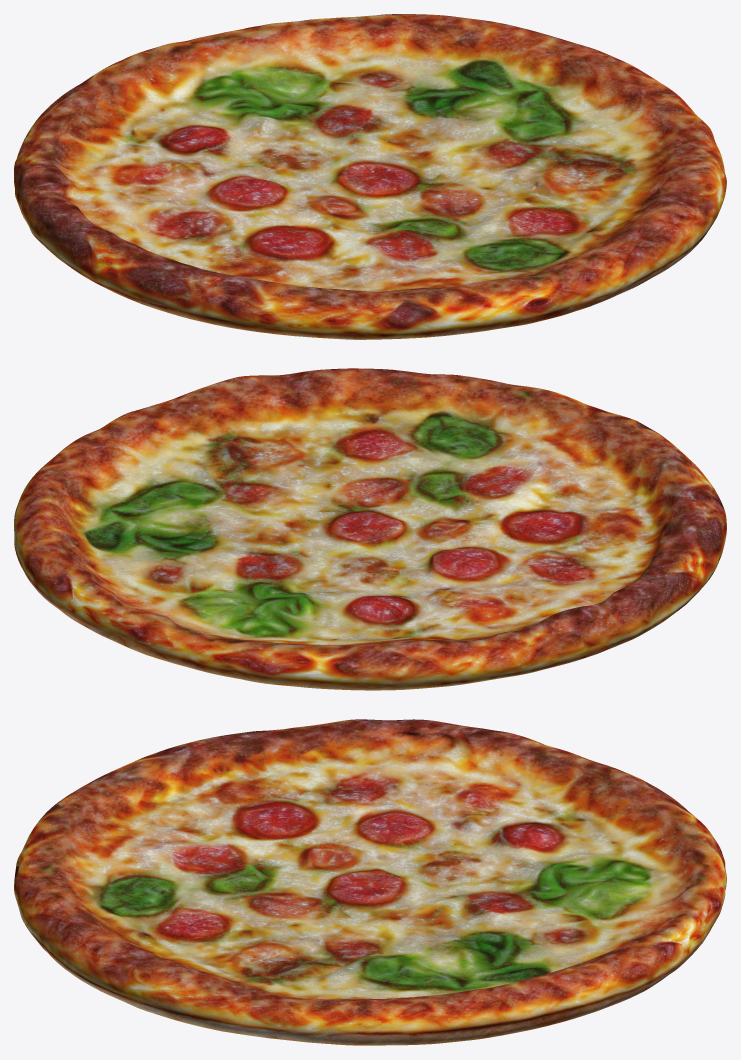
Rendered from pizzaglb.glb.
3 views of the same model, one above another, from view 1: azimuth 30°, elevation 25°; view 2: azimuth 150°, elevation 25°; view 3: azimuth 270°, elevation 25° (orthographic).
Visible parts, largest first — view 1: Object_5; view 2: Object_5; view 3: Object_5.
Part boxes in pixels (bbox=[...]): Object_5: bbox=[14, 14, 726, 339]; Object_5: bbox=[14, 368, 726, 690]; Object_5: bbox=[14, 719, 726, 1045].
Bounding box in the file's own units: 0.2763 × 0.0246 × 0.2772.
Materials: 1 (1 with a texture image).
